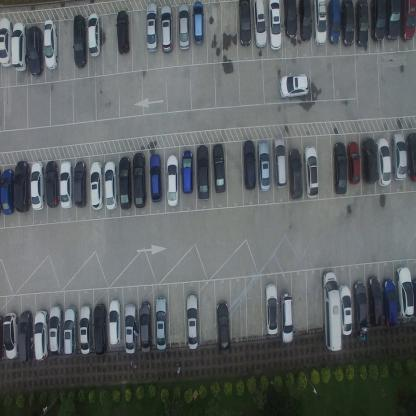car: (321, 270, 341, 351), (395, 265, 414, 319), (13, 159, 30, 214), (279, 71, 310, 100), (132, 150, 147, 209), (185, 292, 200, 349), (381, 278, 398, 328), (18, 310, 34, 363), (375, 136, 391, 188), (353, 280, 369, 332), (11, 20, 27, 72), (252, 0, 268, 52), (288, 146, 303, 201), (196, 143, 210, 201), (73, 14, 88, 68), (3, 310, 19, 360), (215, 301, 230, 354), (279, 292, 294, 345), (43, 18, 58, 71), (267, 0, 282, 53), (391, 131, 407, 180), (332, 142, 347, 194), (34, 309, 49, 361), (118, 155, 132, 210), (93, 302, 107, 357), (44, 161, 60, 209), (361, 136, 377, 184), (367, 276, 382, 327), (304, 144, 318, 198), (49, 303, 63, 357), (211, 143, 226, 193), (89, 160, 104, 210), (273, 136, 287, 189), (257, 140, 271, 193), (338, 283, 352, 336), (79, 303, 93, 356), (325, 0, 341, 46), (370, 0, 386, 46), (149, 154, 164, 203), (73, 160, 88, 209), (29, 25, 43, 77), (145, 1, 159, 53), (64, 306, 78, 358), (0, 168, 15, 216), (160, 3, 174, 54), (312, 0, 327, 47), (166, 154, 179, 208), (104, 160, 118, 210), (59, 160, 73, 210), (265, 282, 278, 335), (124, 301, 137, 354), (0, 15, 13, 68), (340, 0, 354, 49), (243, 140, 256, 192), (346, 140, 361, 185), (116, 8, 130, 56), (354, 0, 368, 48), (399, 0, 415, 42), (155, 296, 167, 351), (88, 11, 102, 58), (31, 160, 44, 210), (239, 0, 252, 49), (139, 300, 151, 353), (386, 0, 400, 45), (283, 0, 298, 41), (178, 1, 190, 52), (108, 299, 121, 346), (299, 0, 313, 43), (181, 148, 194, 194), (406, 132, 416, 182), (193, 1, 204, 45)
